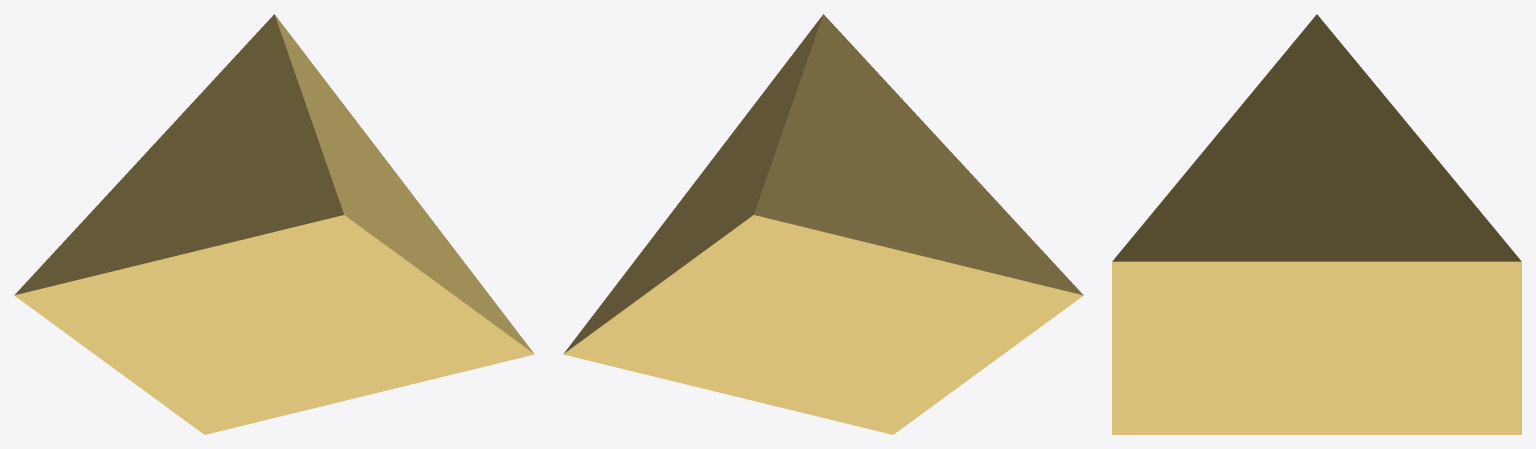
3 renders of one model, left to right at view 1: azimuth 30°, elevation 25°; view 2: azimuth 150°, elevation 25°; view 3: azimuth 270°, elevation 25°, orthographic. The views are drawn at different scales.
Size of the model in its own units: 1 by 0.9 by 1.
